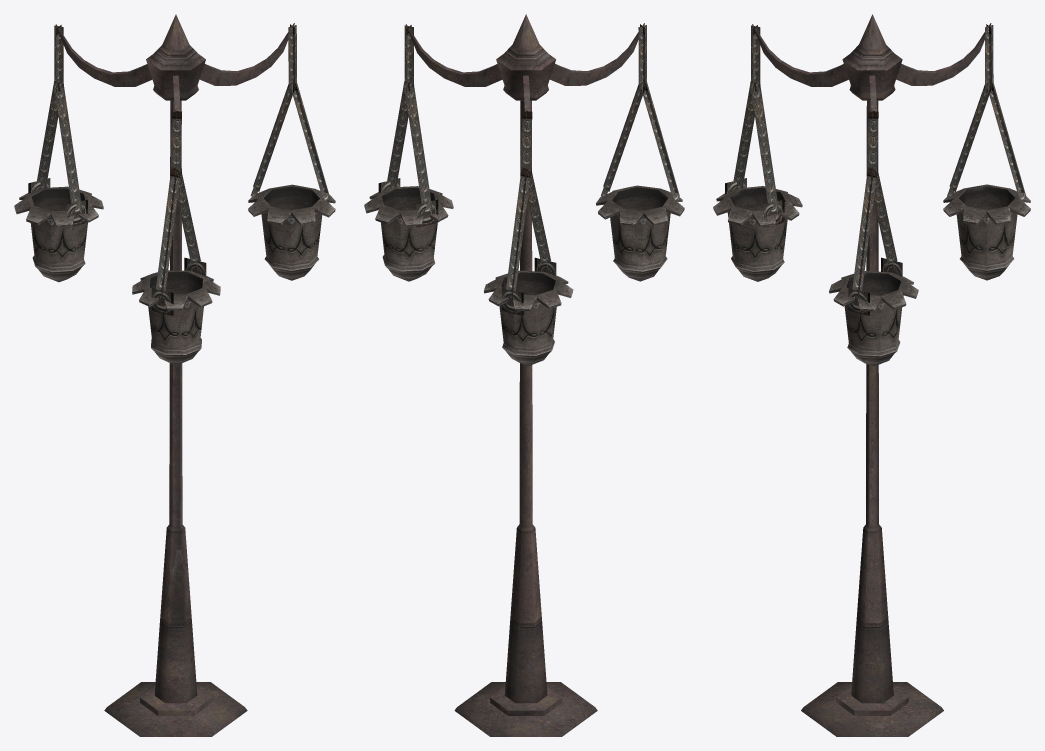
File: Incensary.fbx
3 views of the same model, side by side, from view 1: azimuth 30°, elevation 25°; view 2: azimuth 150°, elevation 25°; view 3: azimuth 270°, elevation 25° (orthographic).
Parts seen in each view (by area): view 1: Mesh Object; view 2: Mesh Object; view 3: Mesh Object.
Part boxes in pixels (left/top/right/bottom): Mesh Object: left=14, top=14, right=335, bottom=736; Mesh Object: left=364, top=14, right=684, bottom=736; Mesh Object: left=713, top=14, right=1030, bottom=736.
Size of the model in its own units: 1.06 by 2.8 by 1.16.
